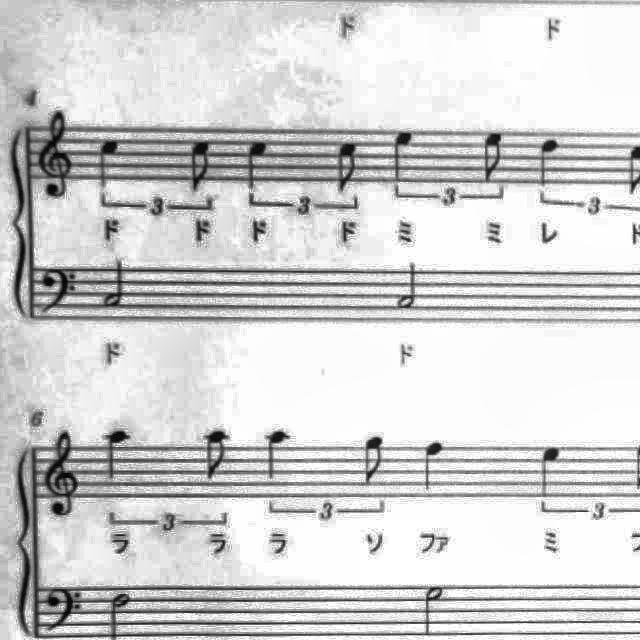Bass-clef: (36, 261, 84, 323), (42, 577, 90, 635)
Eighth-note: (180, 136, 220, 200), (198, 424, 234, 488), (329, 136, 366, 198), (354, 429, 392, 489), (475, 128, 511, 188)
Half-note: (96, 254, 132, 314), (390, 257, 426, 315), (418, 578, 450, 640)
Quarter-note: (97, 423, 135, 489), (384, 124, 420, 190), (91, 133, 127, 199), (259, 423, 297, 485), (414, 434, 450, 498), (534, 438, 570, 502), (238, 133, 274, 197), (530, 132, 566, 192)
Treble-clef: (40, 426, 90, 522), (34, 105, 82, 203)
